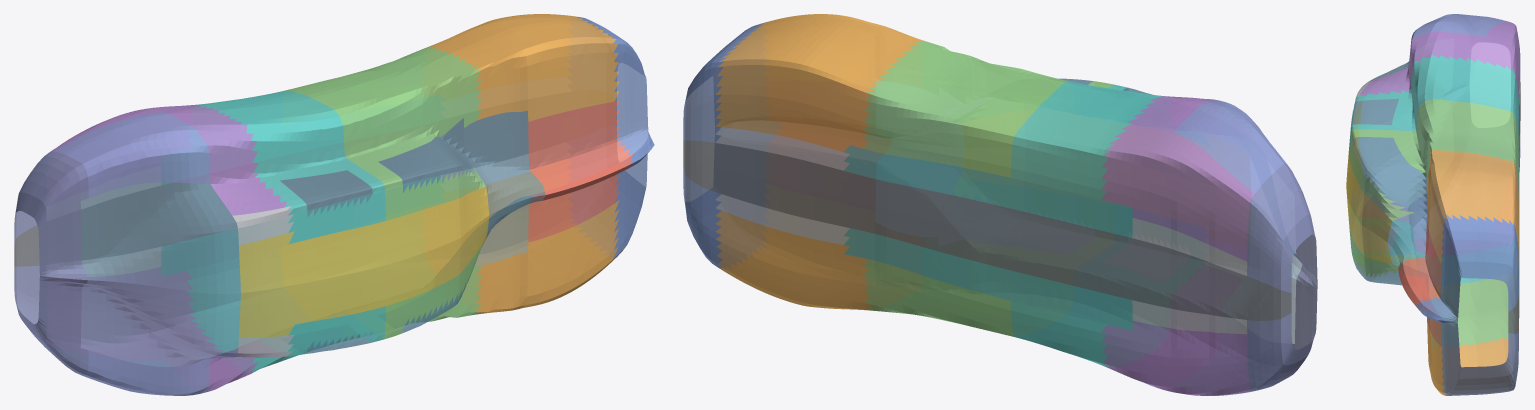
Rendered from modern_car_v2_track_surface_partition.glb.
3 renders of one model, left to right at view 1: azimuth 30°, elevation 25°; view 2: azimuth 150°, elevation 25°; view 3: azimuth 270°, elevation 25°, orthographic. The views are drawn at different scales.
Visible parts, largest first — view 1: aperture_rear_glass, panel_roof, panel_underbody, panel_front_door_right, panel_front_fender_right, panel_rear_hatch, panel_rear_bumper, panel_rear_door_right, panel_rear_quarter_left, panel_front_fender_left, panel_hood, aperture_windshield (+10 smaller); view 2: panel_underbody, panel_front_fender_right, panel_front_door_right, panel_rear_quarter_right, panel_rear_bumper, panel_rear_door_right, panel_front_fender_left, panel_fixed_body, panel_rocker_right, panel_rocker_left, panel_rear_quarter_left, panel_front_door_left (+5 smaller); view 3: panel_front_bumper, panel_front_door_right, panel_front_fender_right, panel_rear_door_right, panel_rear_quarter_right, panel_front_door_left, aperture_rear_glass, aperture_front_side_glass_right, panel_roof, panel_hood, panel_rear_hatch, panel_front_fender_left (+7 smaller).
Part boxes in pixels (x1,y1,x2,y2): aperture_rear_glass: [80, 182, 240, 366]; panel_roof: [239, 187, 489, 337]; panel_underbody: [14, 110, 528, 266]; panel_front_door_right: [285, 46, 485, 220]; panel_front_fender_right: [427, 14, 619, 121]; panel_rear_hatch: [54, 112, 210, 395]; panel_rear_bumper: [14, 151, 88, 375]; panel_rear_door_right: [195, 90, 385, 243]; panel_rear_quarter_left: [80, 267, 258, 391]; panel_front_fender_left: [475, 171, 619, 314]; panel_hood: [528, 101, 634, 241]; aperture_windshield: [464, 111, 545, 266]; panel_underbody: [683, 140, 1291, 320]; panel_front_fender_right: [715, 14, 923, 151]; panel_front_door_right: [863, 40, 1113, 177]; panel_rear_quarter_right: [1101, 95, 1254, 261]; panel_rear_bumper: [1247, 163, 1317, 391]; panel_rear_door_right: [1010, 81, 1172, 199]; panel_front_fender_left: [716, 210, 870, 310]; panel_fixed_body: [715, 127, 1247, 334]; panel_rocker_right: [844, 145, 1132, 237]; panel_rocker_left: [844, 228, 1132, 330]; panel_rear_quarter_left: [1101, 320, 1254, 395]; panel_front_door_left: [863, 259, 1013, 336]; panel_front_bumper: [1415, 215, 1518, 395]; panel_front_door_right: [1349, 99, 1518, 221]; panel_front_fender_right: [1427, 149, 1518, 263]; panel_rear_door_right: [1349, 54, 1518, 157]; panel_rear_quarter_right: [1360, 21, 1520, 96]; panel_front_door_left: [1349, 229, 1508, 346]; aperture_rear_glass: [1359, 61, 1427, 206]; aperture_front_side_glass_right: [1353, 137, 1428, 212]; panel_roof: [1346, 101, 1392, 263]; panel_hood: [1398, 222, 1442, 345]; panel_rear_hatch: [1408, 14, 1506, 241]; panel_front_fender_left: [1427, 319, 1508, 395].
Bounding box in the file's own units: 4.39 × 1.84 × 1.36.
